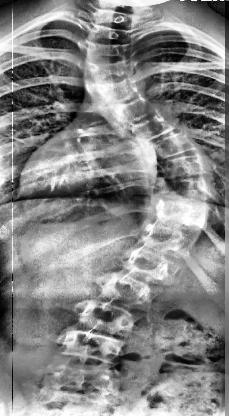Vertebrae: (128, 246, 186, 290), (64, 328, 130, 366), (146, 224, 208, 260), (106, 272, 160, 312), (50, 363, 116, 393), (80, 299, 134, 335), (158, 200, 212, 233), (160, 178, 218, 206), (158, 155, 210, 185), (152, 129, 196, 159), (90, 63, 140, 89), (88, 38, 136, 63), (136, 112, 177, 138), (102, 82, 146, 106), (101, 8, 143, 30), (122, 96, 156, 122), (90, 22, 132, 43)
